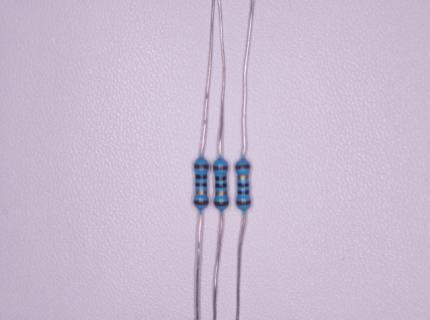Black band: (216, 183, 227, 188), (195, 175, 207, 179), (196, 183, 207, 187), (215, 177, 226, 181), (238, 183, 249, 187), (238, 191, 249, 194)
Brown band: (194, 164, 209, 169), (214, 201, 228, 206), (194, 200, 208, 205), (237, 200, 250, 205), (213, 166, 228, 170), (235, 165, 250, 169)
Gold band: (216, 191, 227, 196), (238, 175, 249, 179), (196, 190, 207, 194)
